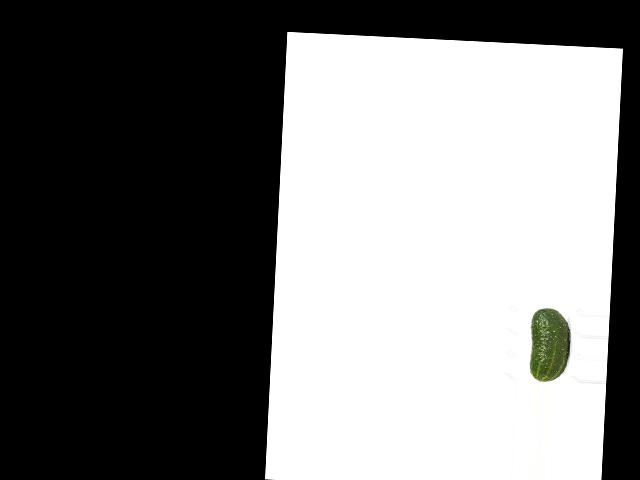cucumber: (529, 307, 571, 382)
